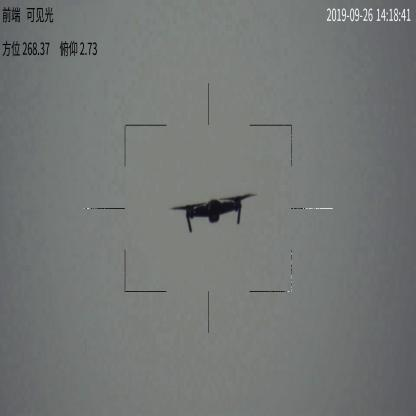uav: (168, 192, 257, 232)
